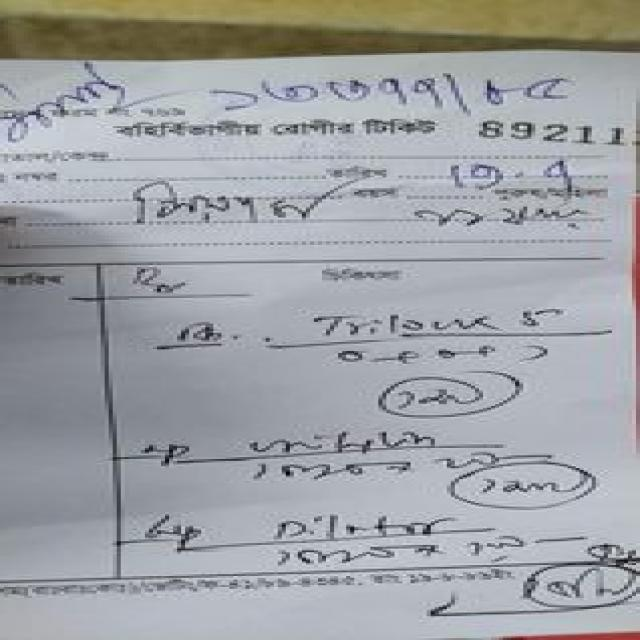Dilator: (268, 508, 461, 542)
Trilock: (307, 307, 506, 339)
Unifylin: (235, 418, 465, 456)
